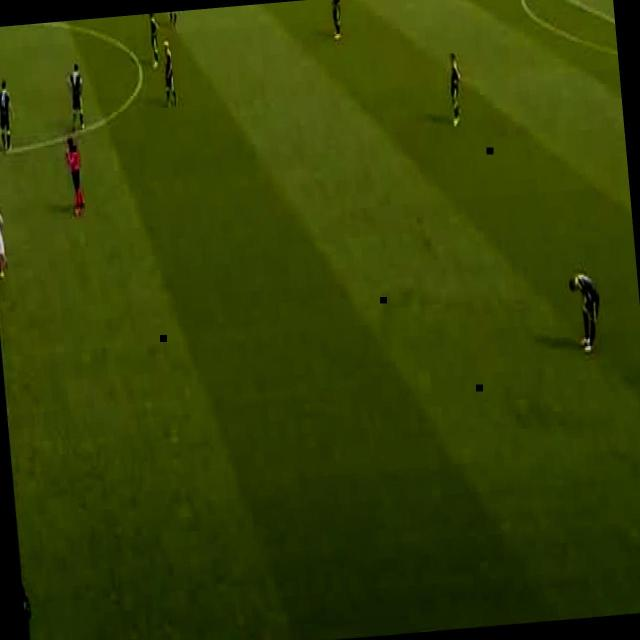player-white: (566, 268, 603, 355), (65, 134, 86, 218), (444, 50, 466, 127), (66, 61, 86, 130), (160, 40, 178, 109), (0, 78, 16, 151), (0, 195, 10, 276), (149, 13, 163, 70), (331, 0, 345, 42), (169, 11, 182, 29)
